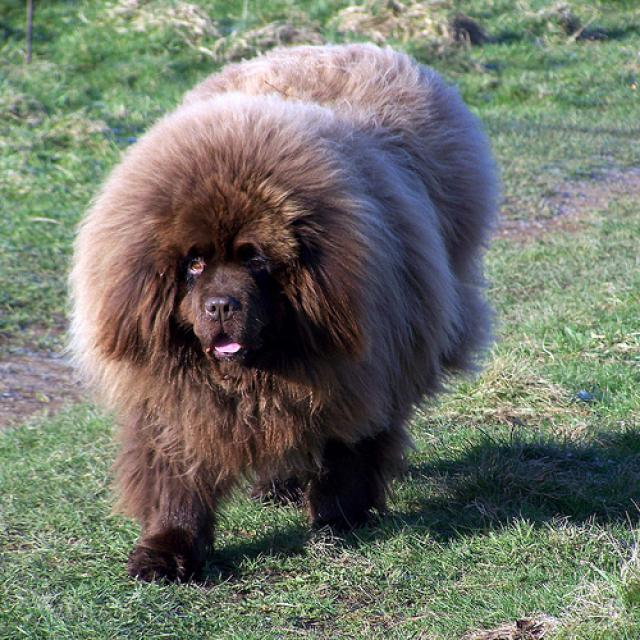dog: (99, 138, 361, 362)
